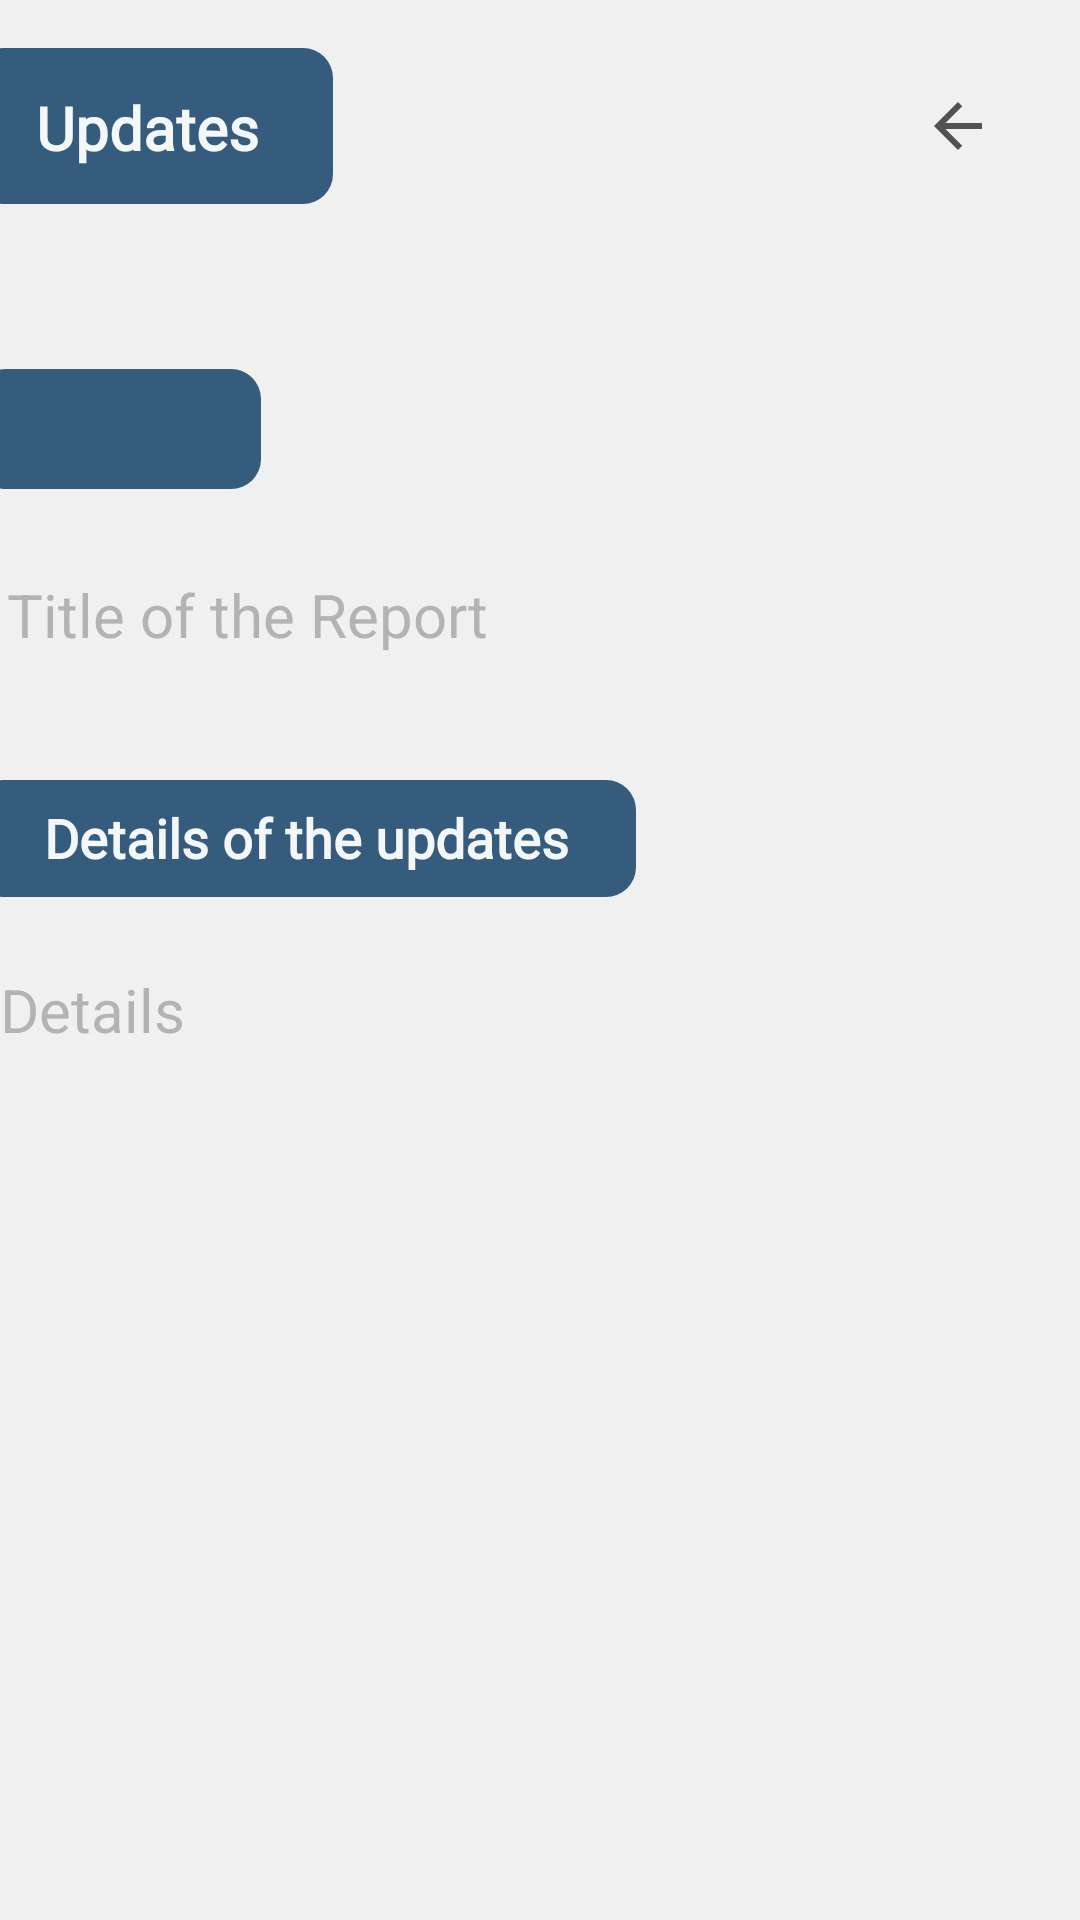

Icons on this 1080*1920 Android screen, each with its box as [x1,y1,x2,y2]:
arrow back: [934,102,982,150]
